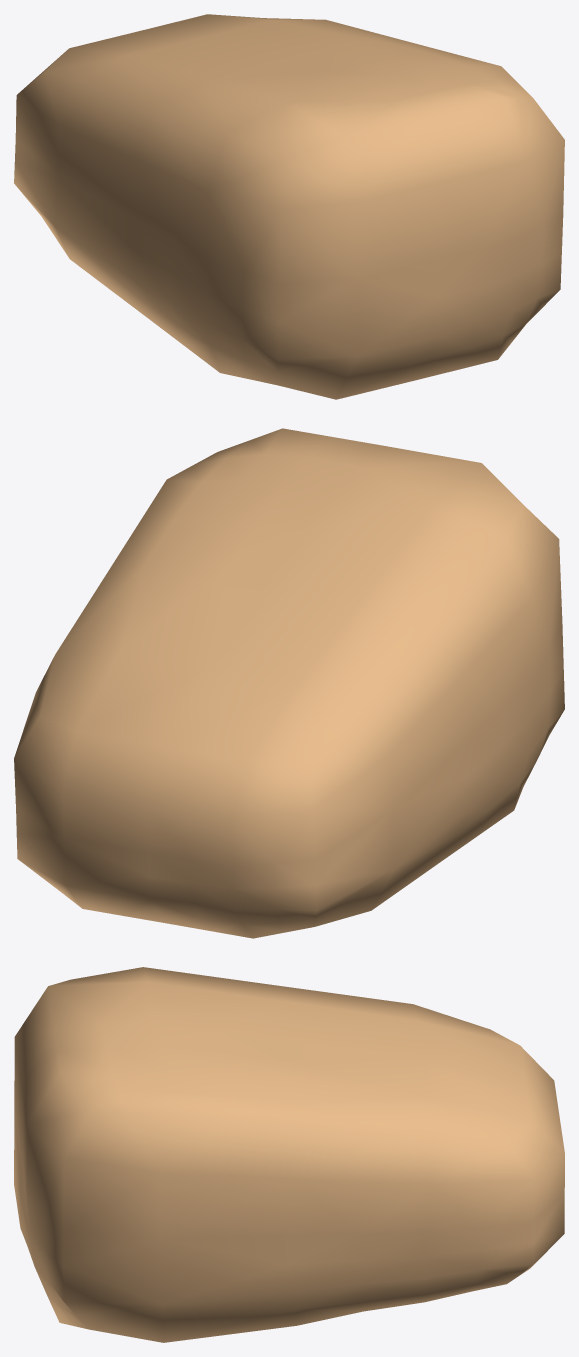
The model's file is middle_03_r.dae.
The picture shows the model from 3 angles, top to bottom: view 1: azimuth 30°, elevation 25°; view 2: azimuth 150°, elevation 25°; view 3: azimuth 270°, elevation 25°; orthographic projection. The views are drawn at different scales.
Parts seen in each view (by area): view 1: skin_geo_middle_03_r; view 2: skin_geo_middle_03_r; view 3: skin_geo_middle_03_r.
Part boxes in pixels (left/top/right/bottom): skin_geo_middle_03_r: left=14, top=14, right=564, bottom=399; skin_geo_middle_03_r: left=14, top=428, right=564, bottom=938; skin_geo_middle_03_r: left=14, top=967, right=564, bottom=1342.
Size of the model in its own units: 0.0194 by 0.0275 by 0.015.
